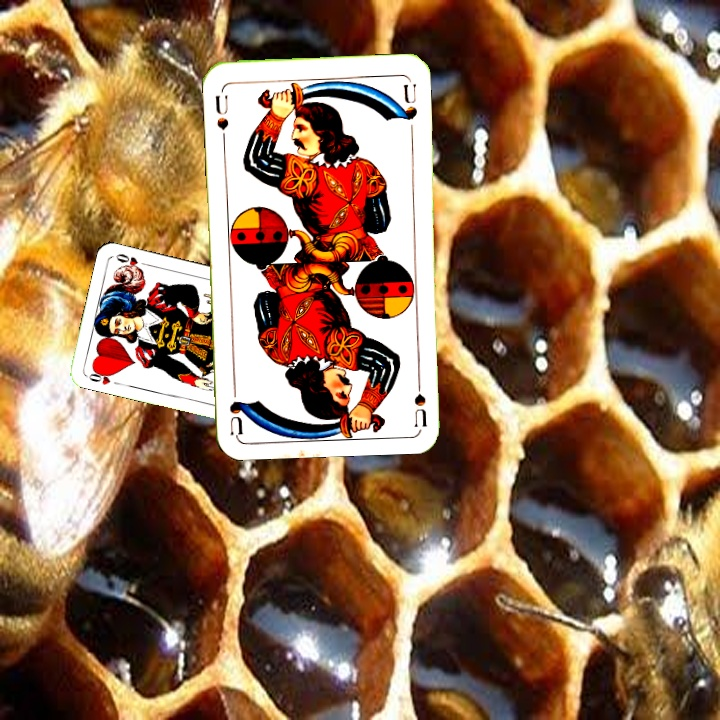HO: (83, 365, 117, 387)
SU: (410, 368, 430, 427), (211, 91, 231, 144)
